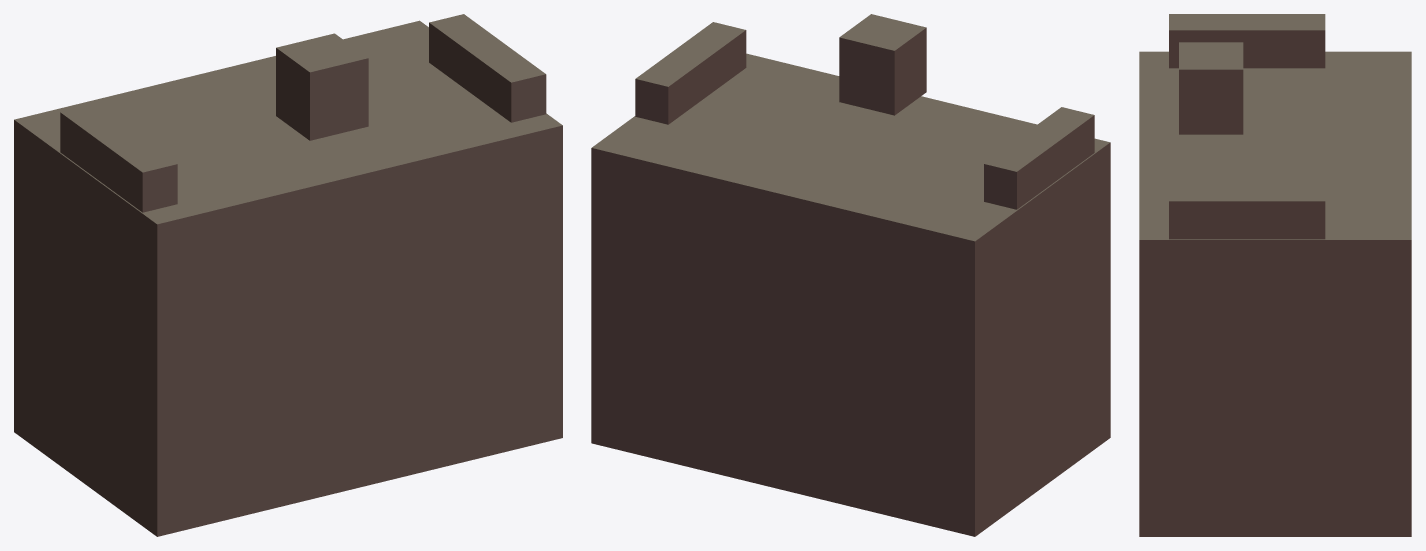
Rendered from mh-block-flats.far-facades-v3.lod2.glb.
The picture shows the model from 3 angles, left to right: view 1: azimuth 30°, elevation 25°; view 2: azimuth 150°, elevation 25°; view 3: azimuth 270°, elevation 25°; orthographic projection. The views are drawn at different scales.
Visible parts, largest first — view 1: mh-block-flats; view 2: mh-block-flats; view 3: mh-block-flats.
Boxes of the visible parts, x1,y1,x2,y2 form: mh-block-flats: (14,14,562,536); mh-block-flats: (591,14,1110,536); mh-block-flats: (1139,14,1411,536).
Size of the model in its own units: 18 by 17.25 by 11.
